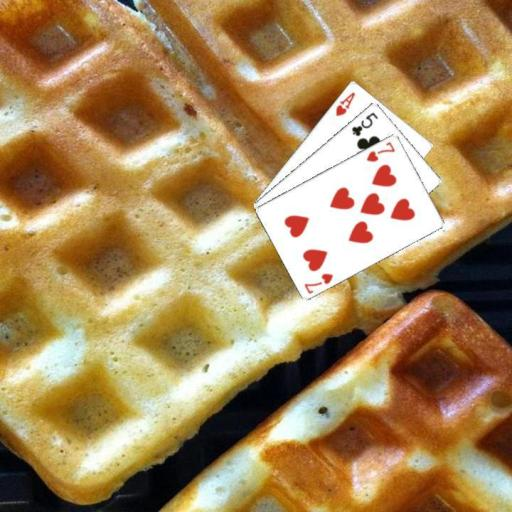5C: (348, 109, 380, 137)
7H: (363, 138, 397, 163), (301, 270, 334, 295)
AH: (332, 89, 356, 118)
